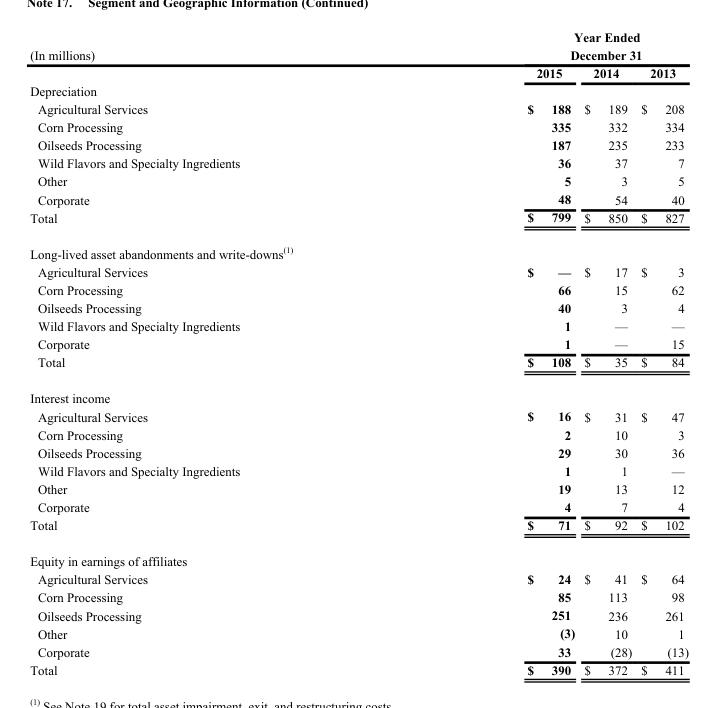table: (29, 29, 688, 676)
table column: (29, 29, 382, 676), (382, 29, 578, 676), (578, 29, 635, 676), (635, 29, 688, 676)
table column header: (29, 29, 688, 81)
table projected row header: (29, 234, 688, 262), (29, 380, 688, 407), (29, 542, 688, 569), (29, 81, 688, 99)
table row: (29, 29, 688, 63), (29, 234, 688, 262), (29, 352, 688, 380), (29, 380, 688, 407), (29, 515, 688, 542), (29, 542, 688, 569), (29, 208, 688, 234), (29, 171, 688, 190), (29, 587, 688, 606), (29, 63, 688, 81), (29, 81, 688, 99), (29, 99, 688, 117), (29, 117, 688, 135), (29, 135, 688, 153), (29, 153, 688, 171), (29, 190, 688, 208), (29, 262, 688, 280), (29, 280, 688, 298), (29, 298, 688, 316), (29, 316, 688, 334), (29, 334, 688, 352), (29, 407, 688, 425), (29, 425, 688, 443), (29, 443, 688, 461), (29, 461, 688, 479), (29, 479, 688, 497), (29, 497, 688, 515), (29, 569, 688, 587), (29, 606, 688, 624), (29, 624, 688, 642), (29, 642, 688, 660), (29, 660, 688, 676)
table spanning cell: (29, 29, 382, 81), (382, 29, 688, 63)
